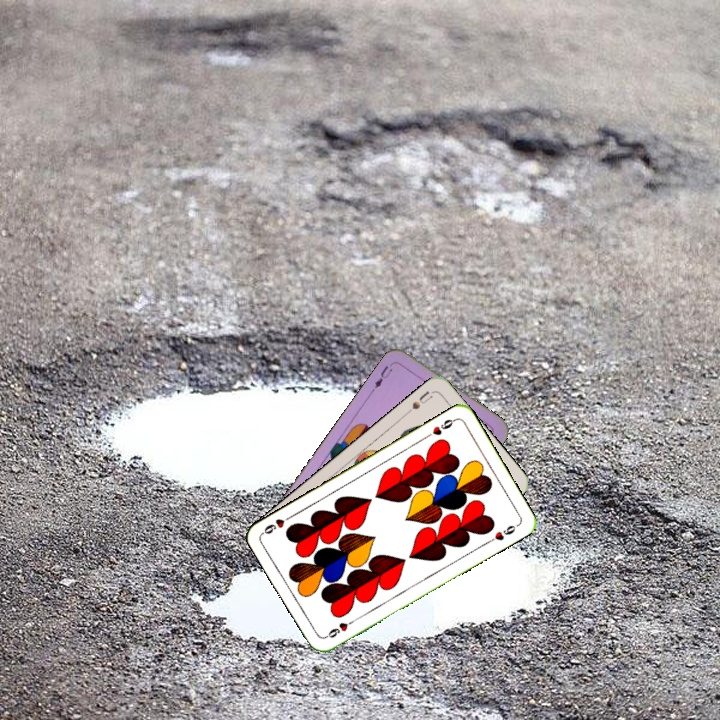EU: (370, 361, 395, 391)
H9: (422, 414, 459, 441), (321, 615, 358, 641)
SU: (402, 386, 435, 417)
